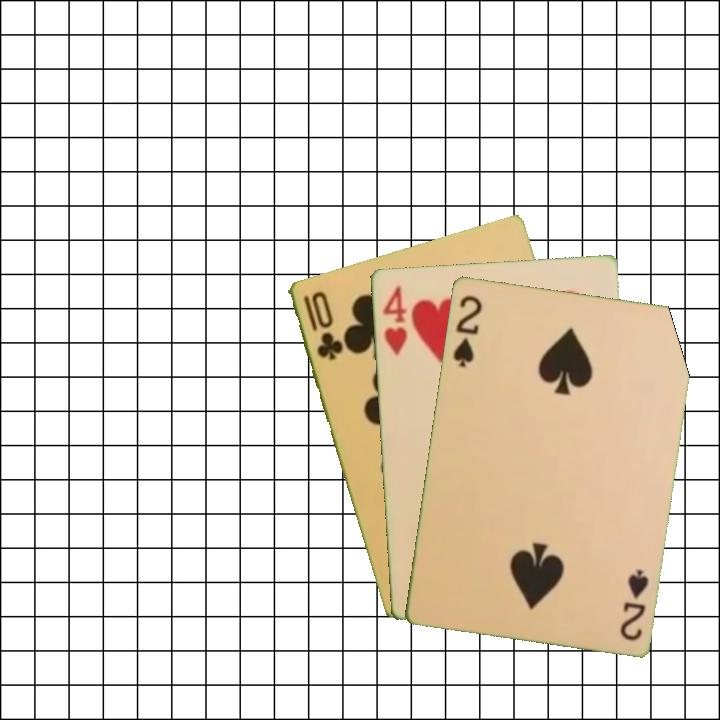10c: (299, 287, 345, 363)
2s: (449, 291, 485, 370), (616, 565, 651, 643)
4h: (379, 281, 410, 358)
